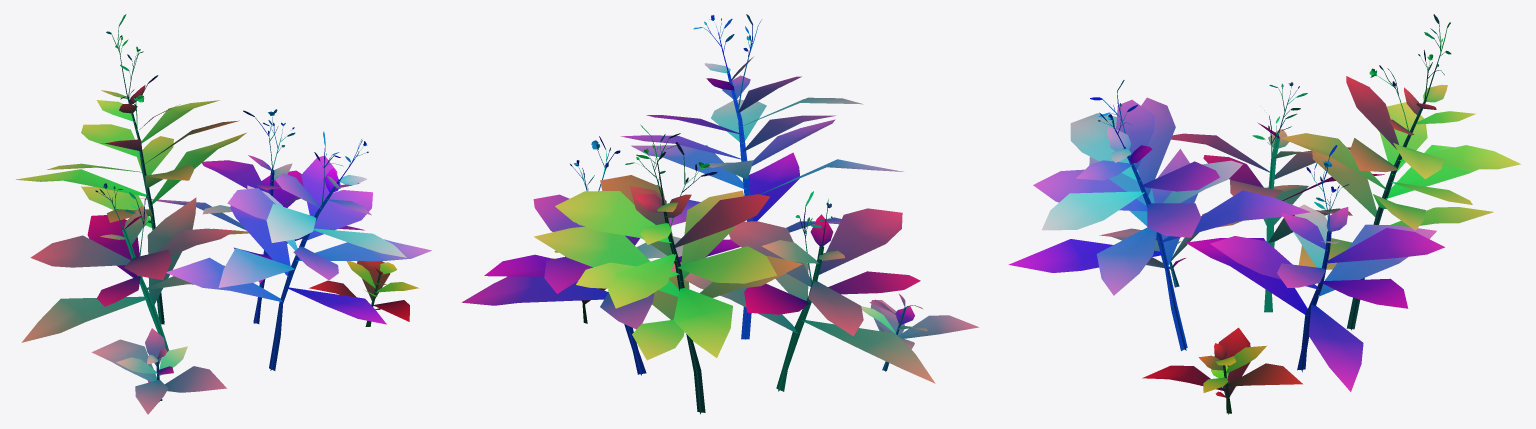
File: xefmcgrqx_VarG_LOD0.fbx
The picture shows the model from 3 angles, left to right: view 1: azimuth 30°, elevation 25°; view 2: azimuth 150°, elevation 25°; view 3: azimuth 270°, elevation 25°; orthographic projection. The views are drawn at different scales.
Visible parts, largest first — view 1: _d6ja_VarG_LOD3; view 2: _d6ja_VarG_LOD3; view 3: _d6ja_VarG_LOD3.
Boxes of the visible parts, bbox=[...] form: _d6ja_VarG_LOD3: bbox=[16, 14, 431, 414]; _d6ja_VarG_LOD3: bbox=[461, 14, 978, 414]; _d6ja_VarG_LOD3: bbox=[1008, 14, 1521, 414].
Size of the model in its own units: 73.23 by 51.88 by 76.97.
